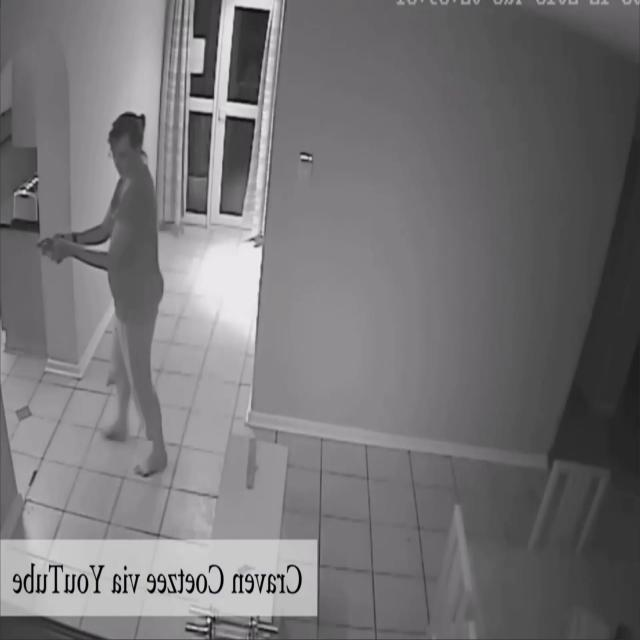Gun: (34, 232, 68, 268)
